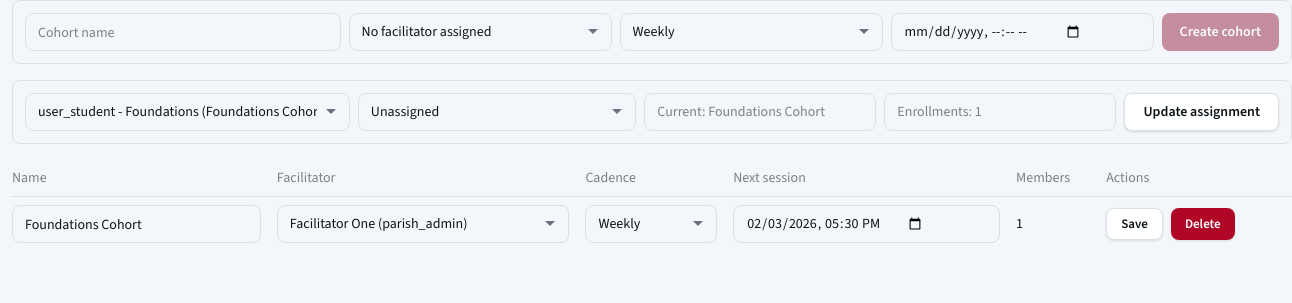
Test: ParishCohortManager › creates a cohort for users who can manage all
Type "New Cohort" into the field with placeholder "Cohort name". click: (183, 32)
box: [25,13,341,51]
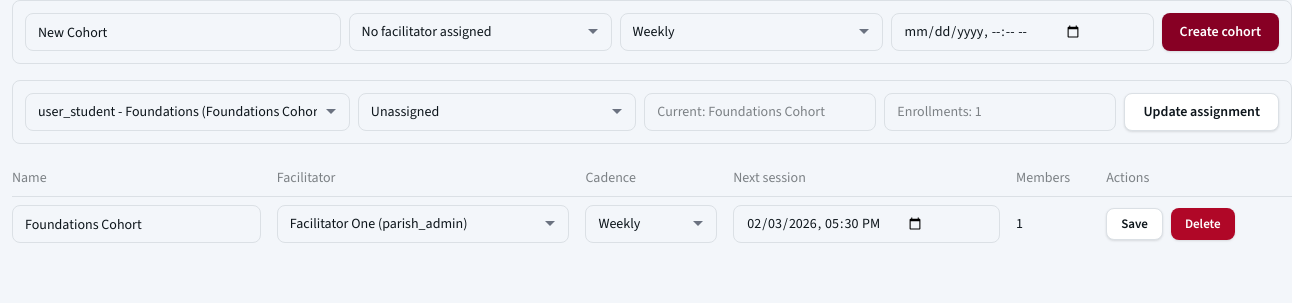
Click the button "Create cohort". click: (1220, 32)
box: [1162,13,1279,51]
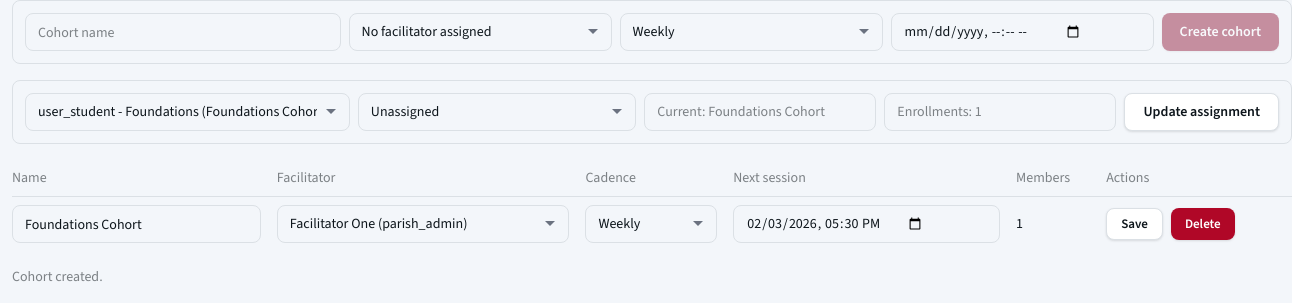
expect the text "Cohort created." is shown: met, box [12,267,103,286]
